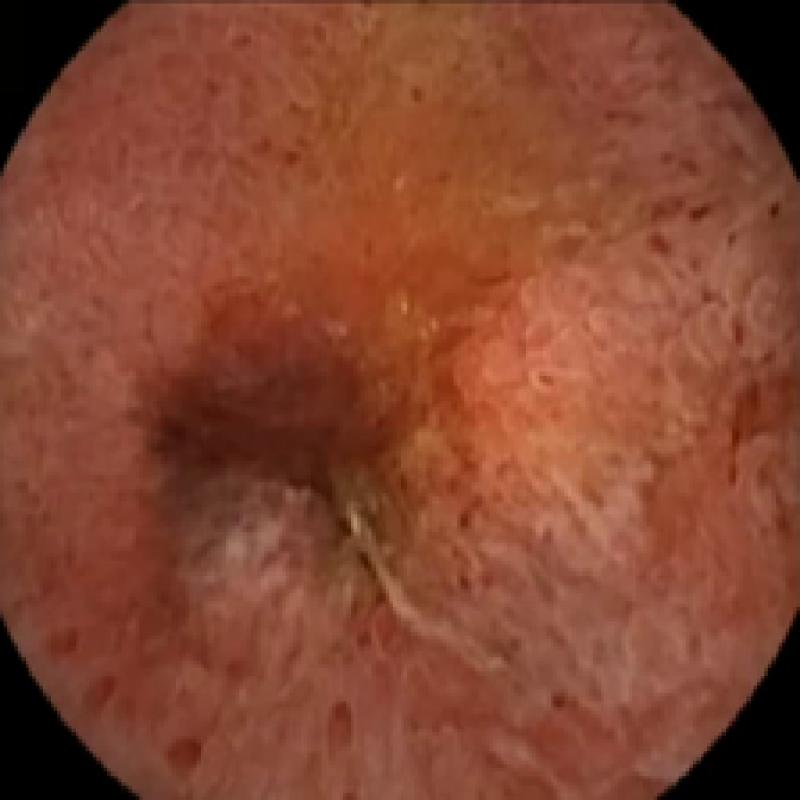bleeding: (127, 237, 526, 586), (593, 89, 800, 493), (36, 616, 361, 782)
